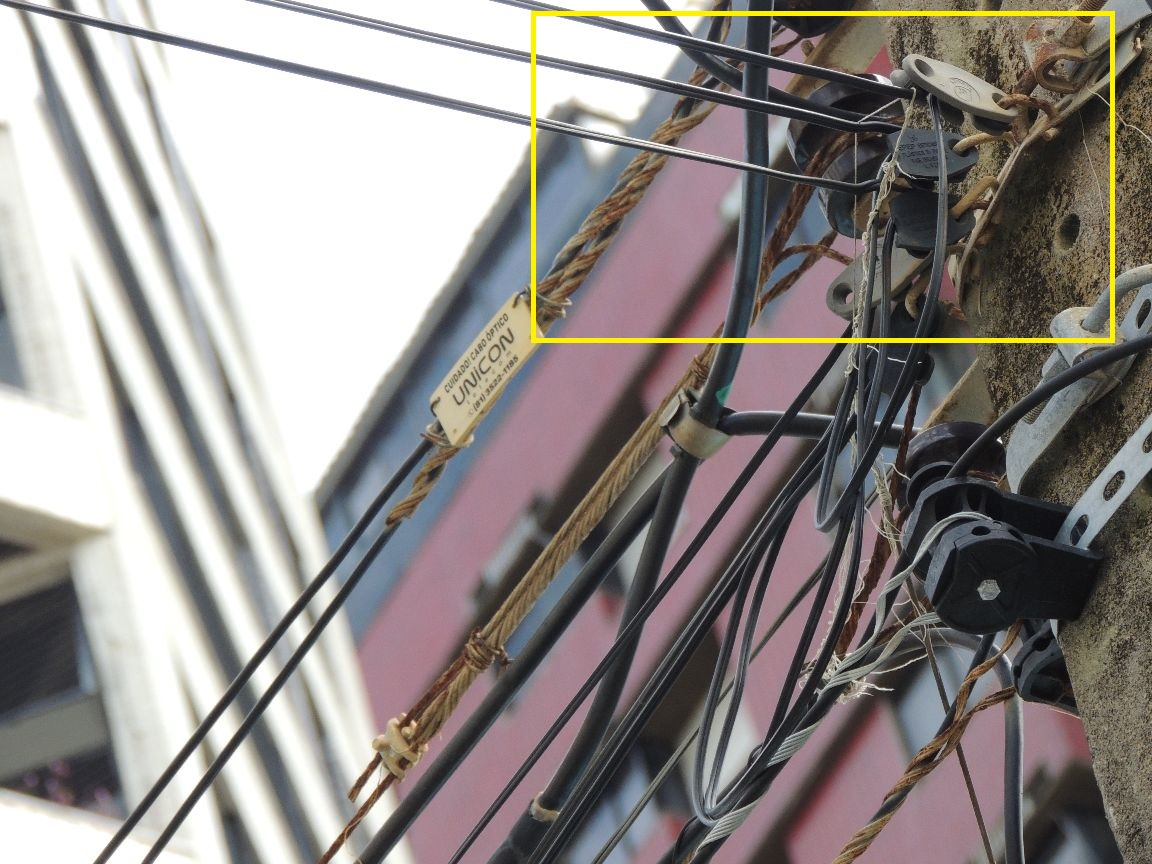drop: (777, 43, 1006, 309), (831, 310, 946, 424)
fibra_optica: (829, 422, 1021, 707), (422, 280, 545, 447)
